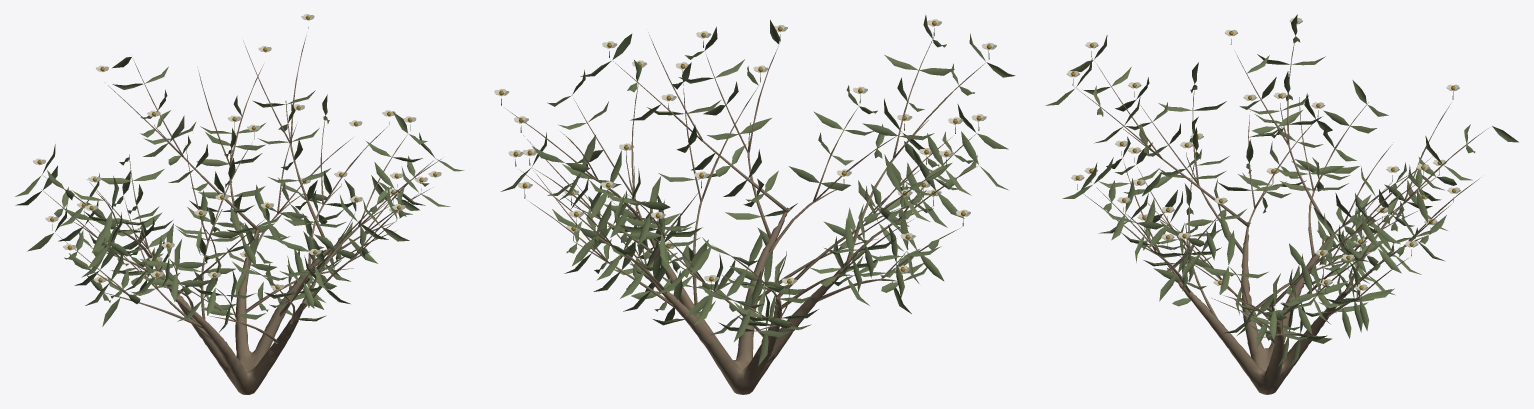
The model's file is Ciste_0_Niveau1.fbx.
The picture shows the model from 3 angles, left to right: view 1: azimuth 30°, elevation 25°; view 2: azimuth 150°, elevation 25°; view 3: azimuth 270°, elevation 25°; orthographic projection. The views are drawn at different scales.
Visible parts, largest first — view 1: Ciste_0_Niveau1_Jeu; view 2: Ciste_0_Niveau1_Jeu; view 3: Ciste_0_Niveau1_Jeu.
Boxes of the visible parts, box(x1,y1,x2,y2) form: Ciste_0_Niveau1_Jeu: box(15, 14, 464, 394); Ciste_0_Niveau1_Jeu: box(494, 15, 1015, 394); Ciste_0_Niveau1_Jeu: box(1045, 14, 1518, 394).
Size of the model in its own units: 80.37 by 53.82 by 77.97.
